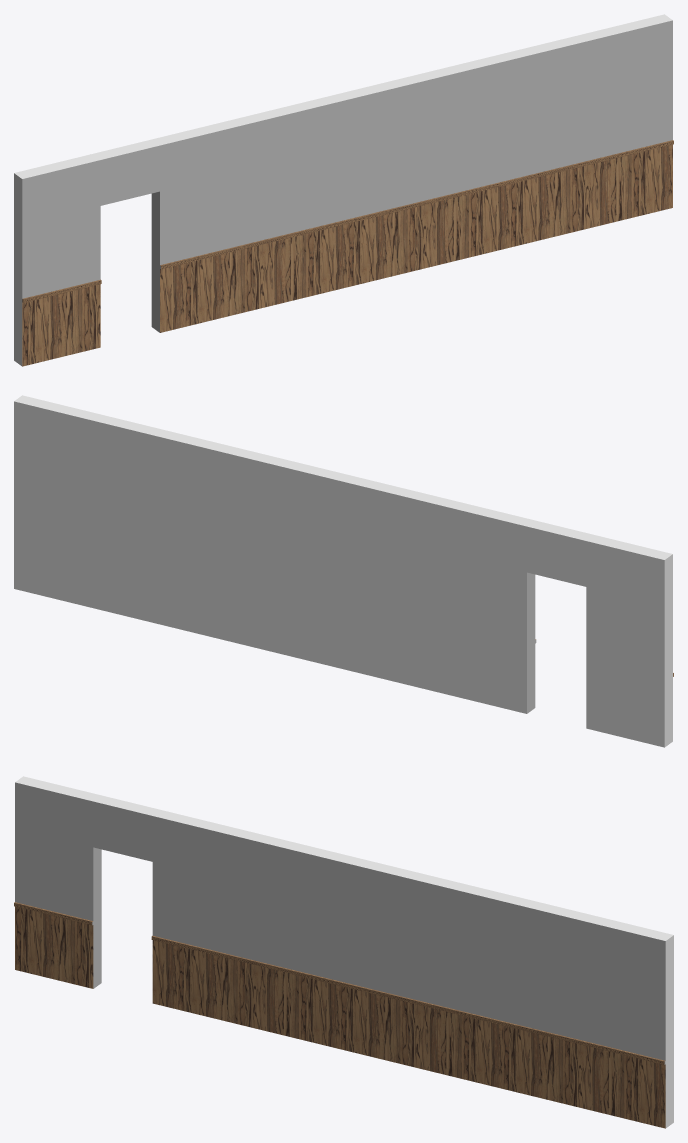
The model's file is Wall 1.FBX.
3 renders of one model, top to bottom at view 1: azimuth 30°, elevation 25°; view 2: azimuth 150°, elevation 25°; view 3: azimuth 330°, elevation 25°, orthographic.
Visible parts, largest first — view 1: Wall 1; view 2: Wall 1; view 3: Wall 1.
Part boxes in pixels (x1,y1,x2,y2): Wall 1: (14, 14, 673, 366); Wall 1: (14, 395, 673, 747); Wall 1: (14, 776, 673, 1128).
Size of the model in its own units: 988 by 272 by 24.56.
